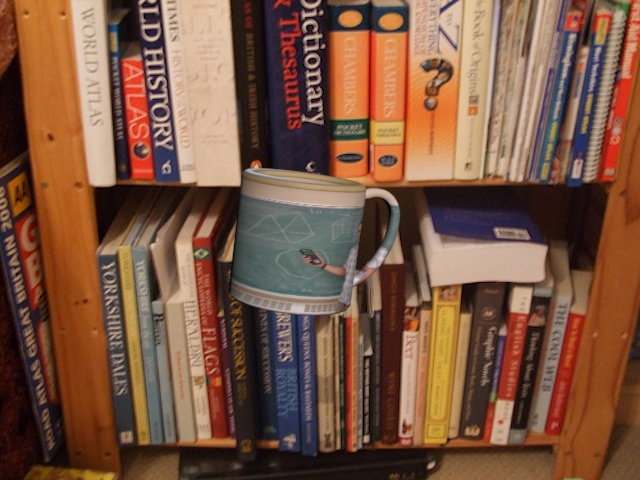mug: (225, 160, 408, 321)
